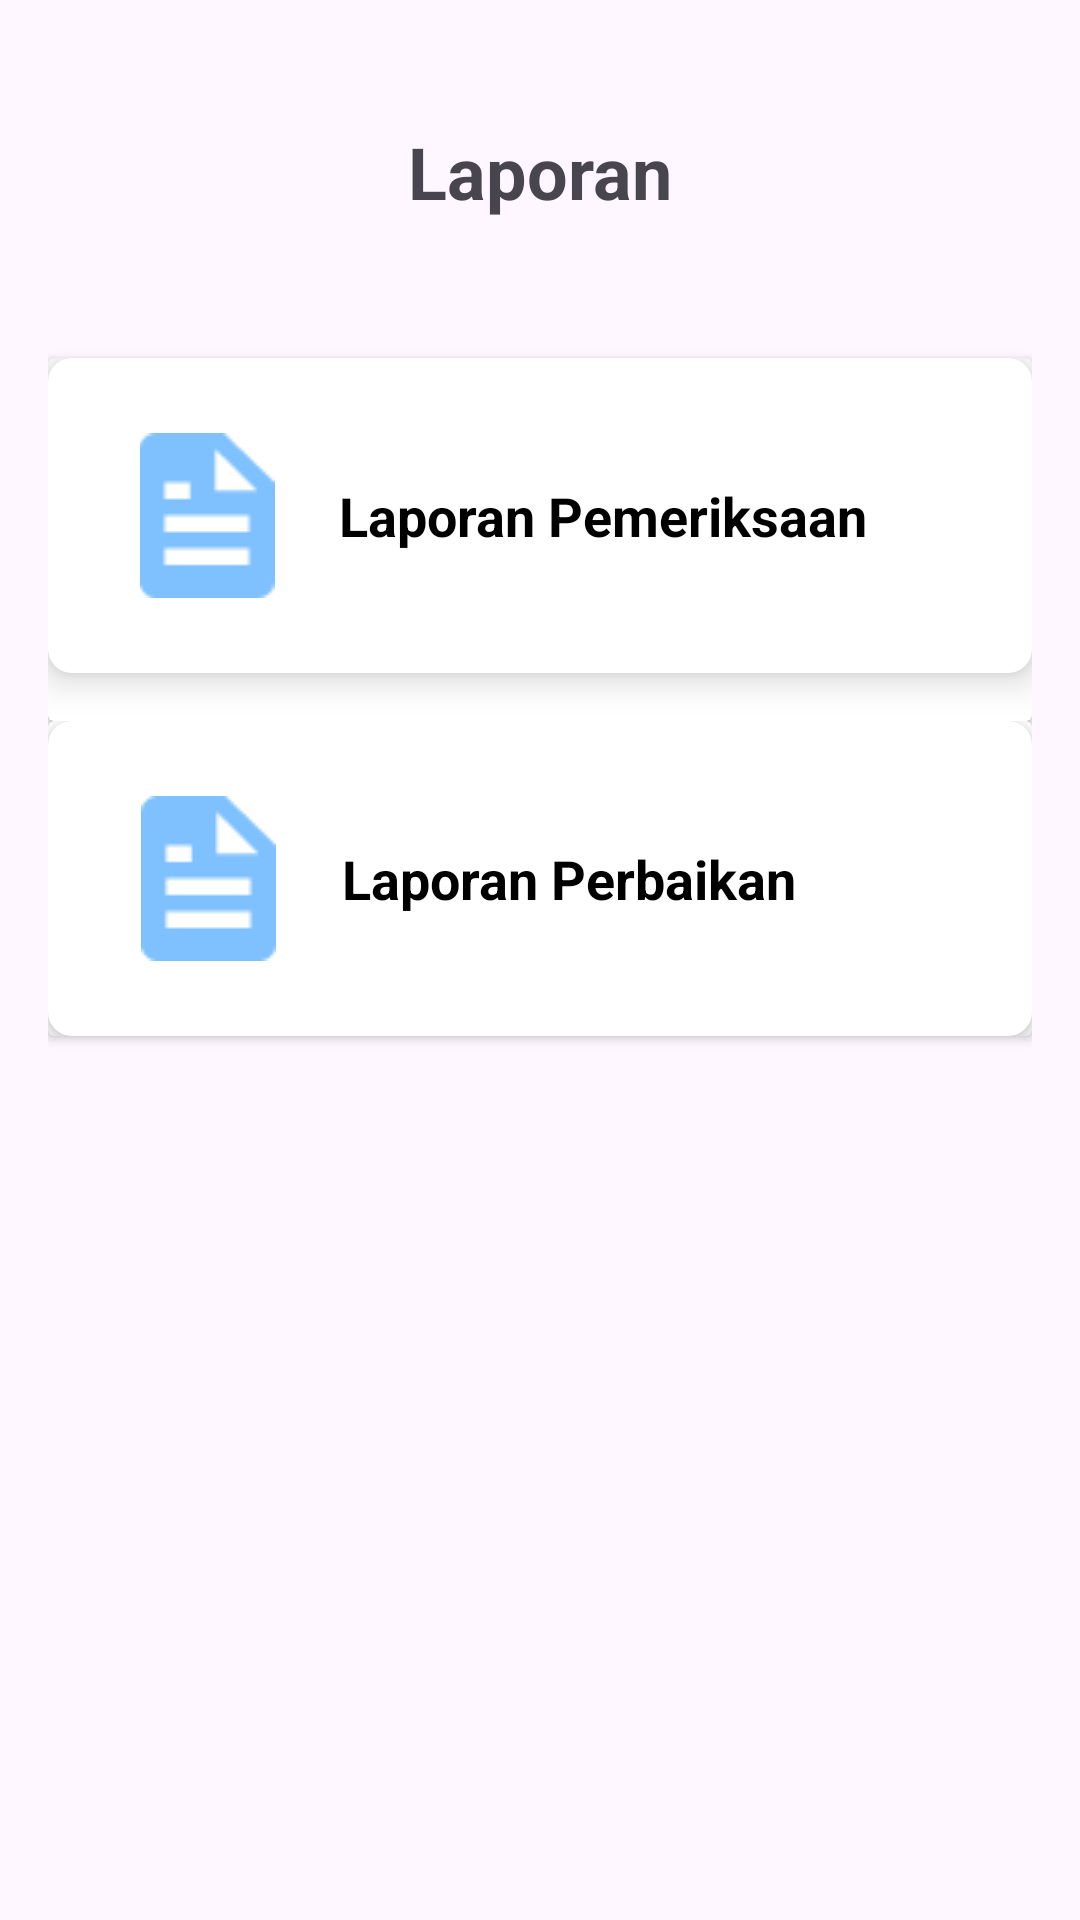

Where icons sit on this 1080px x 1920px app screen, as bbox=(x1, y1, x2, y2):
Report Icon: bbox=(140, 433, 275, 598), bbox=(141, 796, 276, 961)
